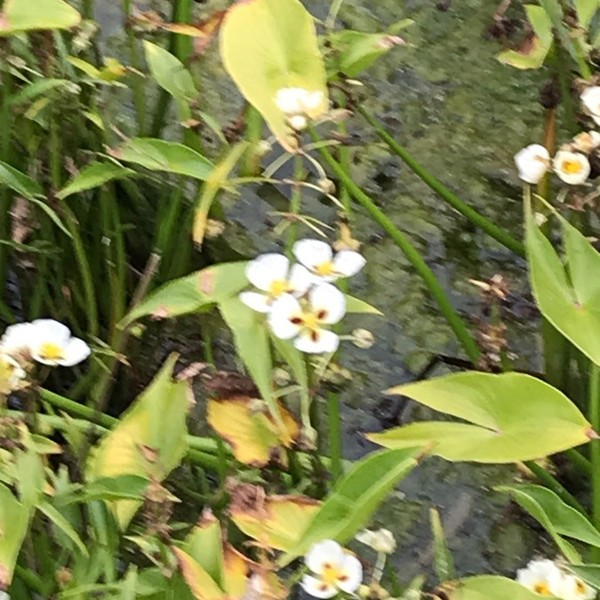obstacle: (72, 75, 524, 521)
